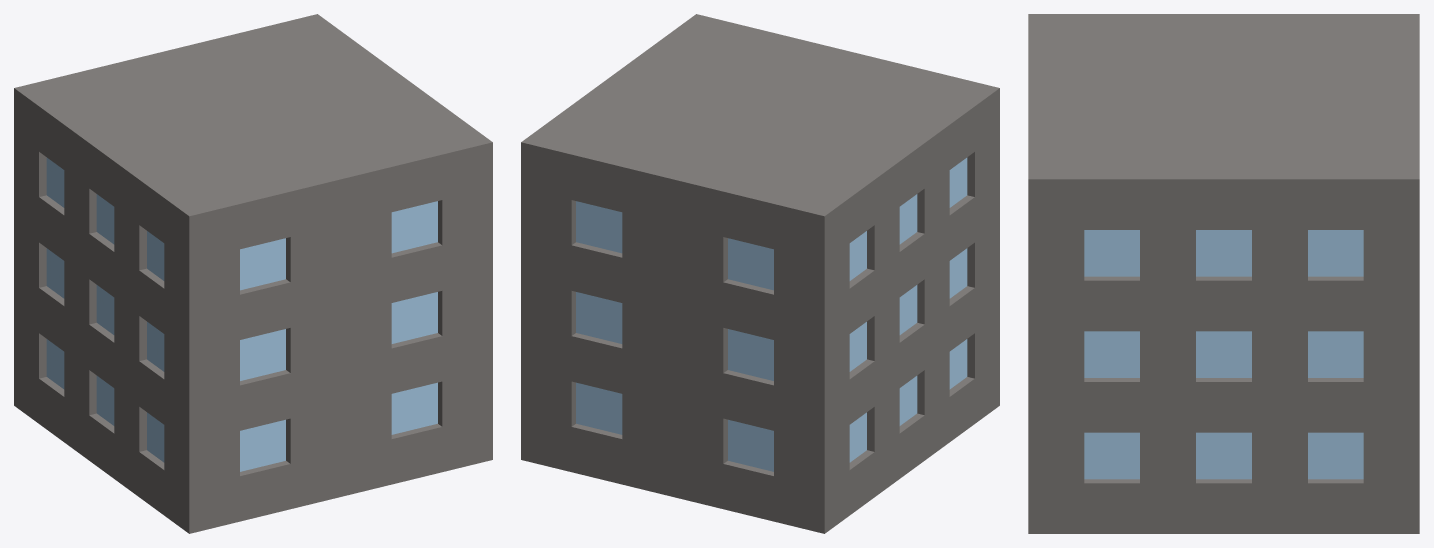
The model's file is towerMiddle.fbx.
The picture shows the model from 3 angles, left to right: view 1: azimuth 30°, elevation 25°; view 2: azimuth 150°, elevation 25°; view 3: azimuth 270°, elevation 25°; orthographic projection. The views are drawn at different scales.
Visible parts, largest first — view 1: pCube1; view 2: pCube1; view 3: pCube1.
Boxes of the visible parts, box(x1,y1,x2,y2) form: pCube1: box(14, 14, 492, 533); pCube1: box(521, 14, 999, 533); pCube1: box(1028, 14, 1419, 533).
Bounding box in the file's own units: 10 × 10 × 10.
1 material, 1 textured.
